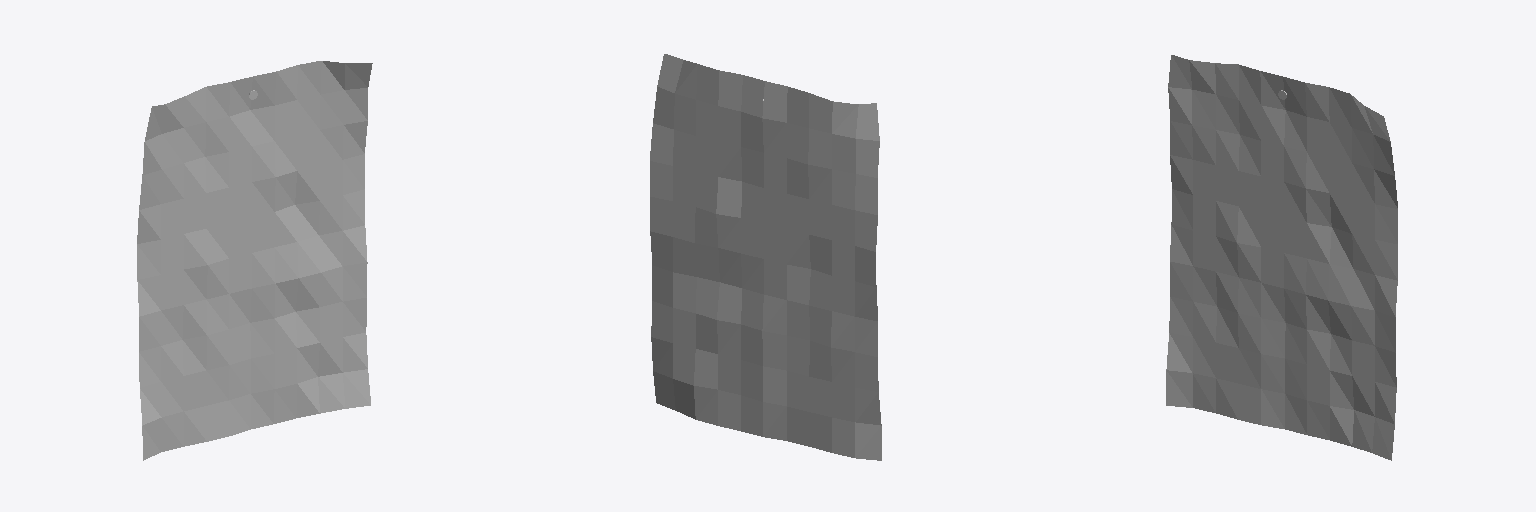
File: poster.obj
3 renders of one model, left to right at view 1: azimuth 30°, elevation 25°; view 2: azimuth 150°, elevation 25°; view 3: azimuth 330°, elevation 25°, orthographic.
Parts seen in each view (by area): view 1: Poster_Poster_0; view 2: Poster_Poster_0; view 3: Poster_Poster_0.
Boxes of the visible parts, x1,y1,x2,y2 form: Poster_Poster_0: [137, 61, 372, 460]; Poster_Poster_0: [650, 54, 881, 460]; Poster_Poster_0: [1166, 55, 1397, 460].
Bounding box in the file's own units: 0.61 × 0.91 × 0.0591.